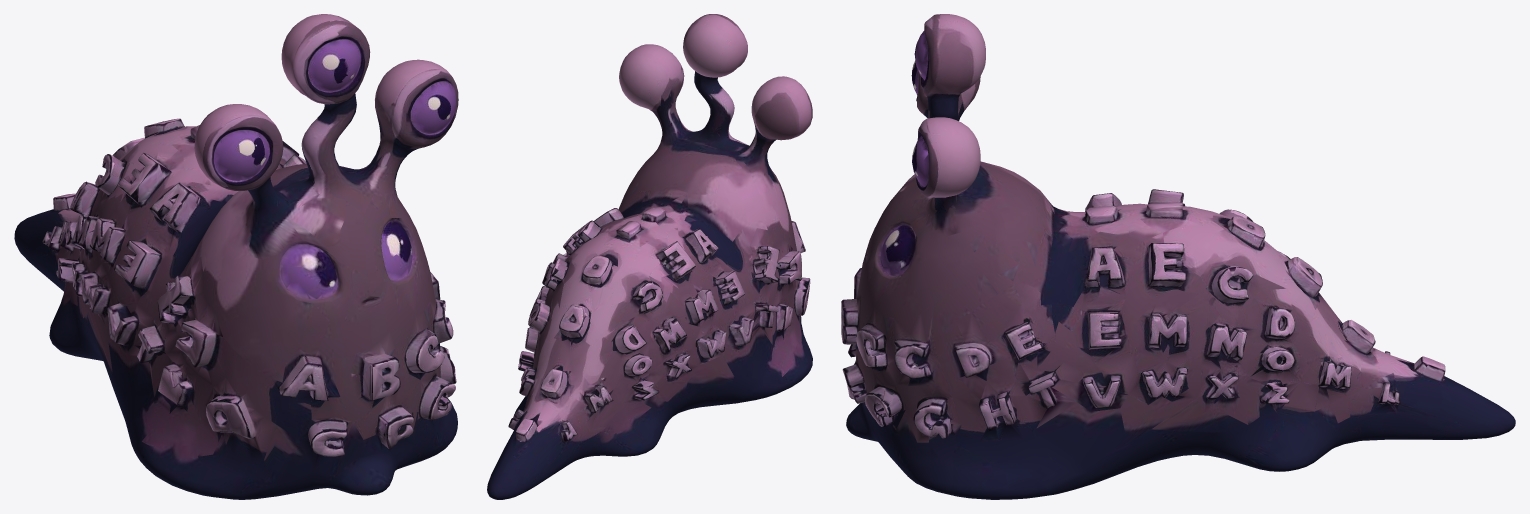
3 views of the same model, side by side, from view 1: azimuth 30°, elevation 25°; view 2: azimuth 150°, elevation 25°; view 3: azimuth 270°, elevation 25° (orthographic). The views are drawn at different scales.
Parts seen in each view (by area): view 1: Mesh_0; view 2: Mesh_0; view 3: Mesh_0.
Boxes of the visible parts, x1,y1,x2,y2 form: Mesh_0: (14, 14, 458, 499); Mesh_0: (487, 14, 812, 499); Mesh_0: (841, 14, 1515, 499).
Bounding box in the file's own units: 0.8904 × 1.3 × 1.9.
1 material, 1 textured.
